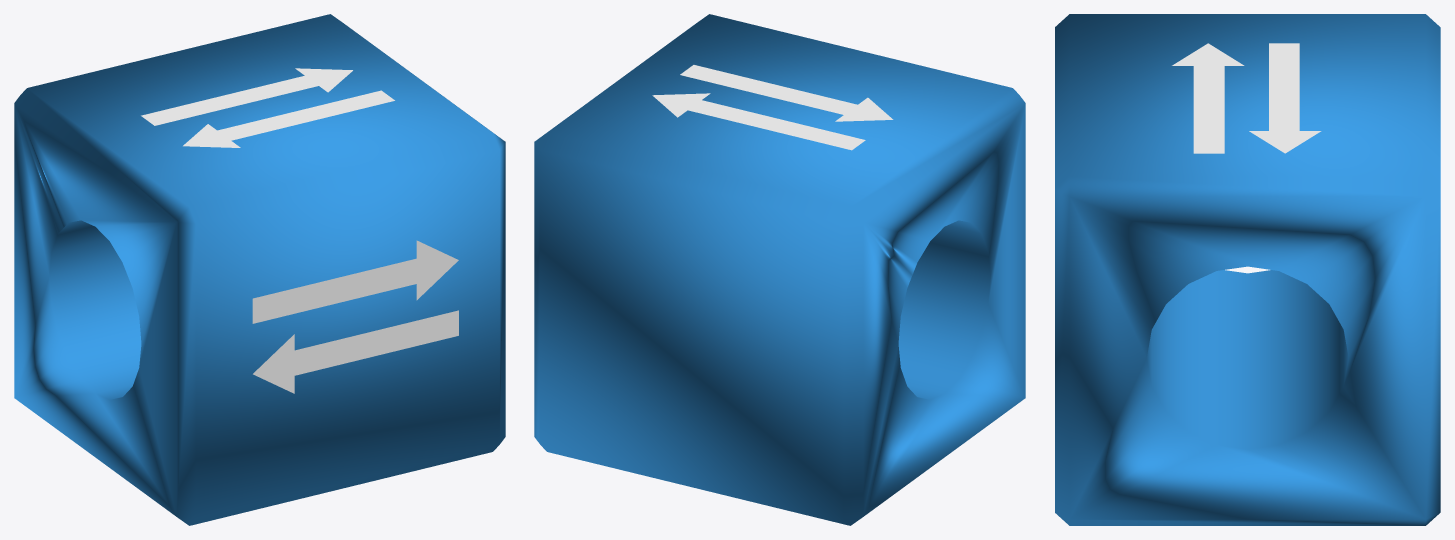
The model's file is 加密机.obj.
3 views of the same model, side by side, from view 1: azimuth 30°, elevation 25°; view 2: azimuth 150°, elevation 25°; view 3: azimuth 270°, elevation 25° (orthographic). The views are drawn at different scales.
Size of the model in its own units: 1.4 by 1.3 by 1.3.
